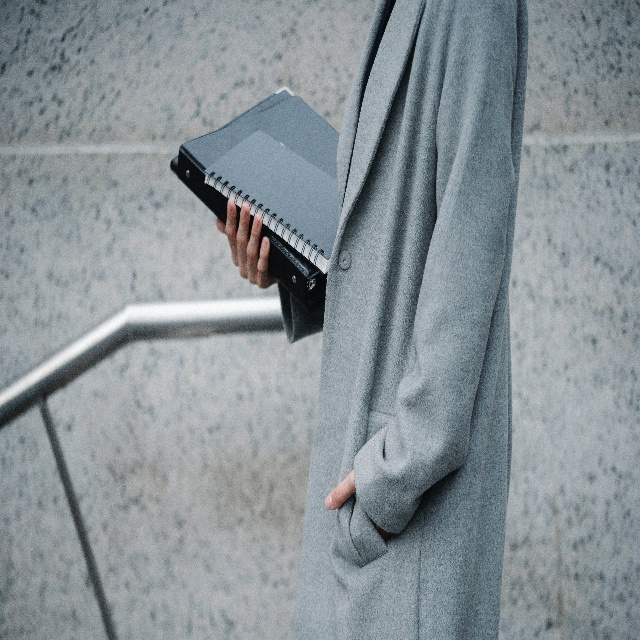Sin_guantes: (213, 196, 278, 288), (324, 468, 358, 512)
